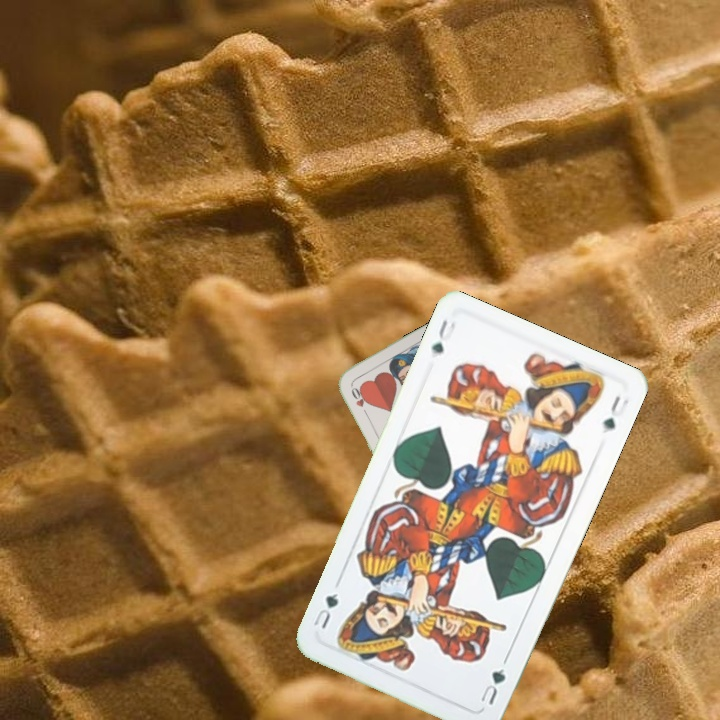GU: (426, 315, 458, 361), (476, 664, 509, 708)
HO: (346, 381, 371, 419)
